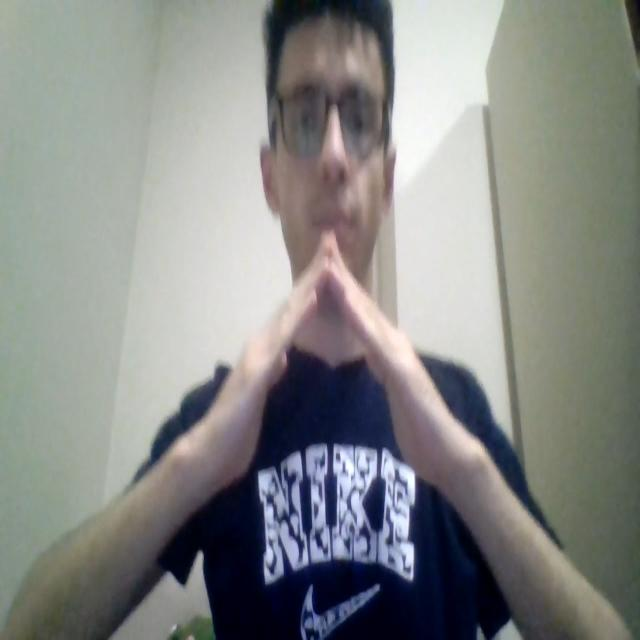house: (178, 234, 476, 508)
